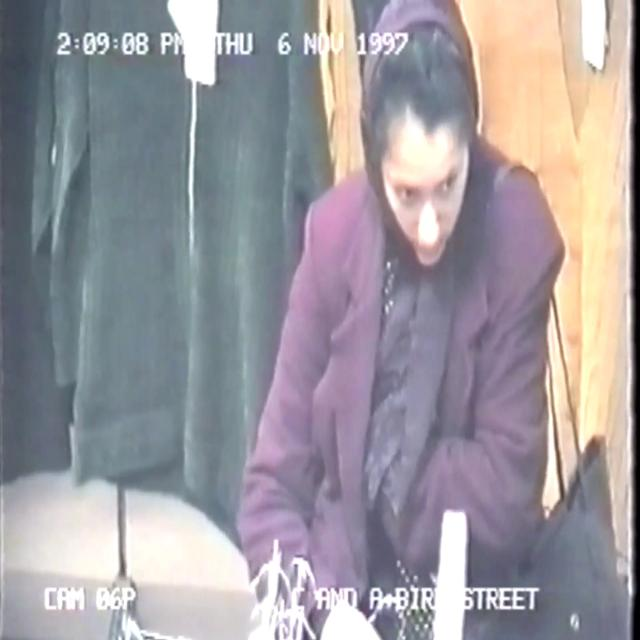shoplifting: (209, 0, 599, 640)
